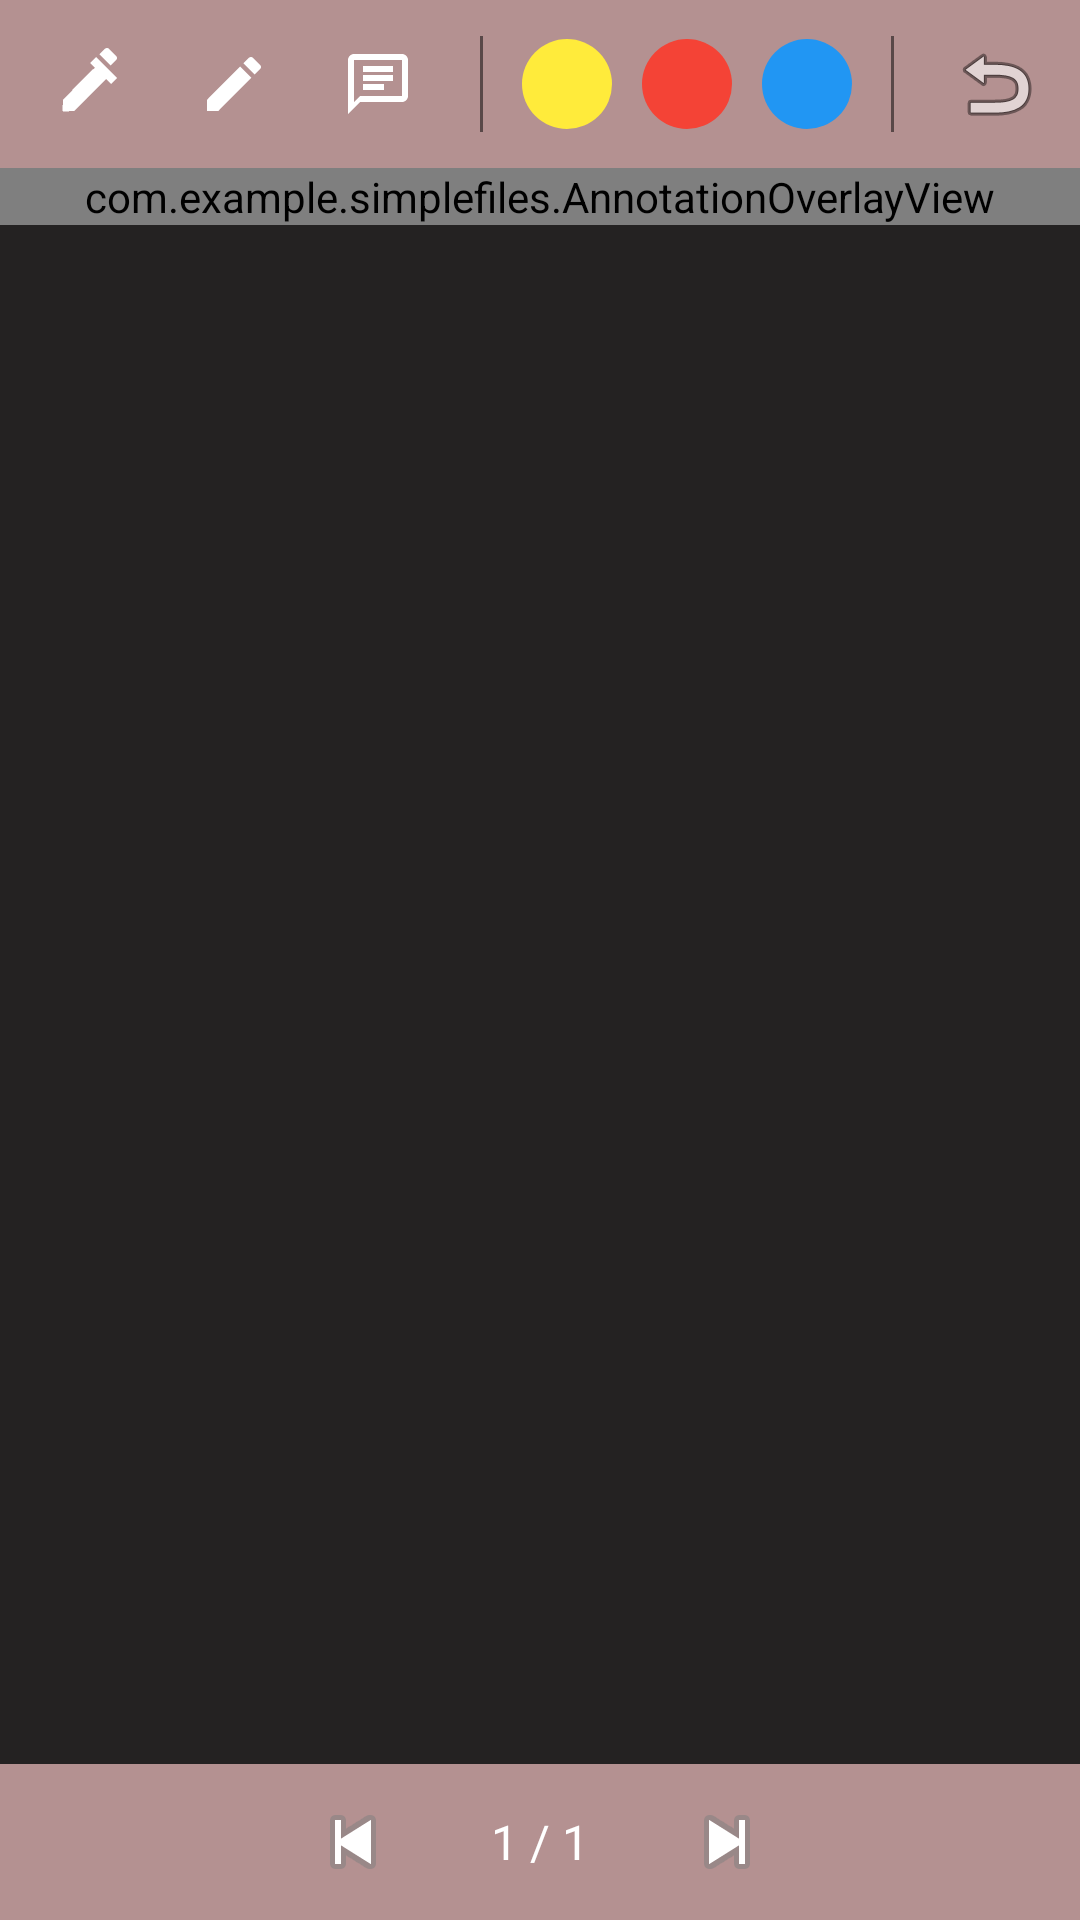

Point at icon controls on the screen. Image size 1080×1920, points as (x,y).
Freehand draw mode: (234,84)
Next page: (727,1842)
Previous page: (353,1842)
Text note mode: (378,84)
Undo: (997,84)
